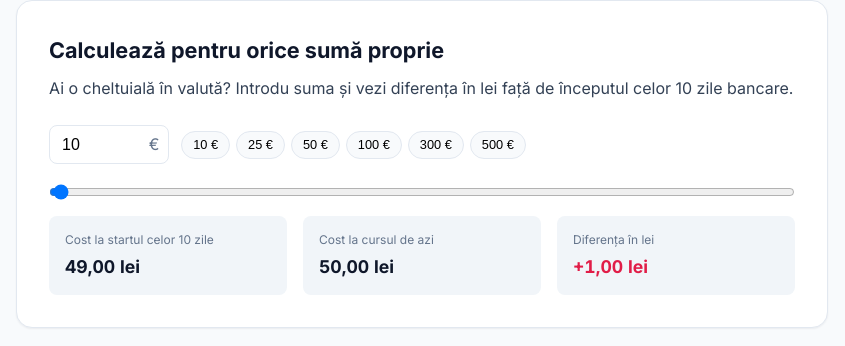
Test: Calculator › actualizează suma la un click pe un chip presetat
The image size is (845, 346).
Click the button "25 €".
click(261, 145)  # box x1=236 y1=131 x2=285 y2=159
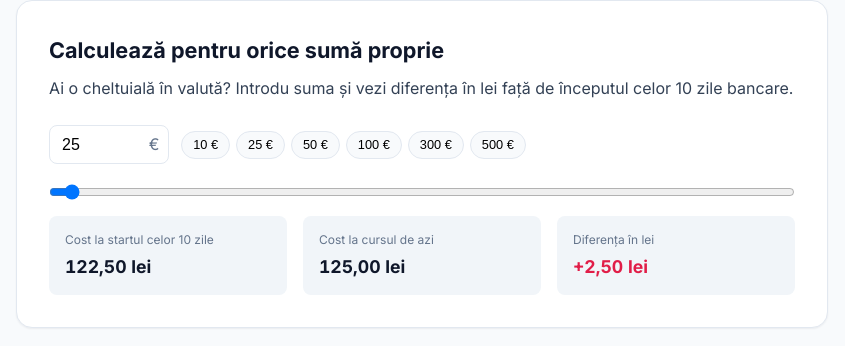
Expected: the text "125,00 lei" is shown, x1=319 y1=253 x2=405 y2=281
